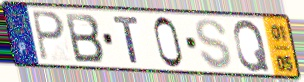0: (152, 15, 185, 69)
B: (63, 12, 106, 64)
P: (29, 9, 67, 63)
Q: (231, 18, 271, 74)
S: (194, 17, 234, 72)
T: (111, 15, 141, 66)
